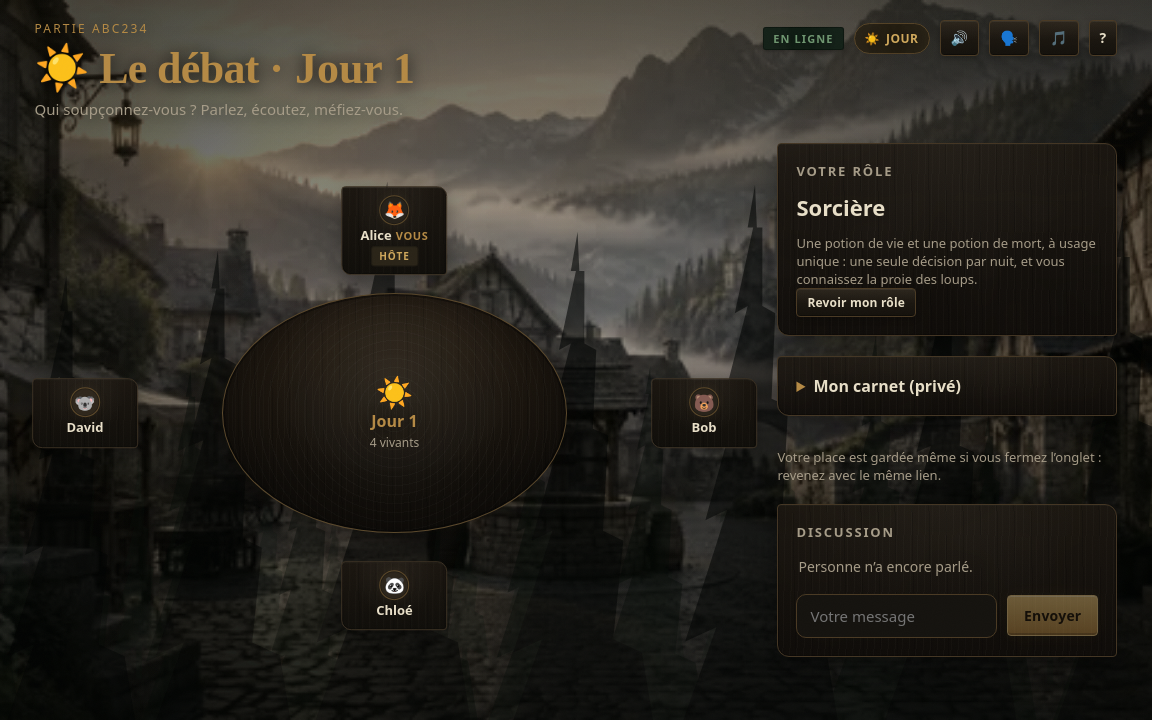
Test: Game › garde la carte de rôle à portée de main après la distribution
Step 1. Click the button "Revoir mon rôle" → {"x": 856, "y": 302}, box [796,288,916,316]
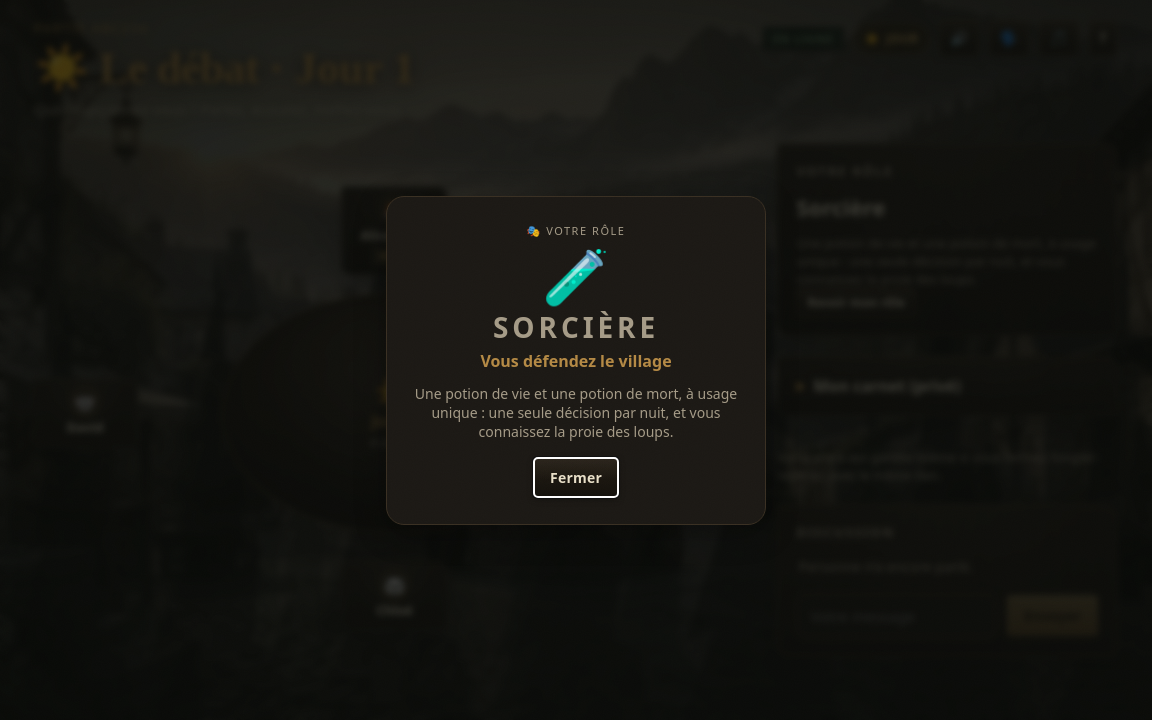
Now the text "Une potion de vie" is shown, box [415,384,737,440]
Step 2. Click the button "Fermer" → {"x": 576, "y": 477}, box [533,456,619,498]
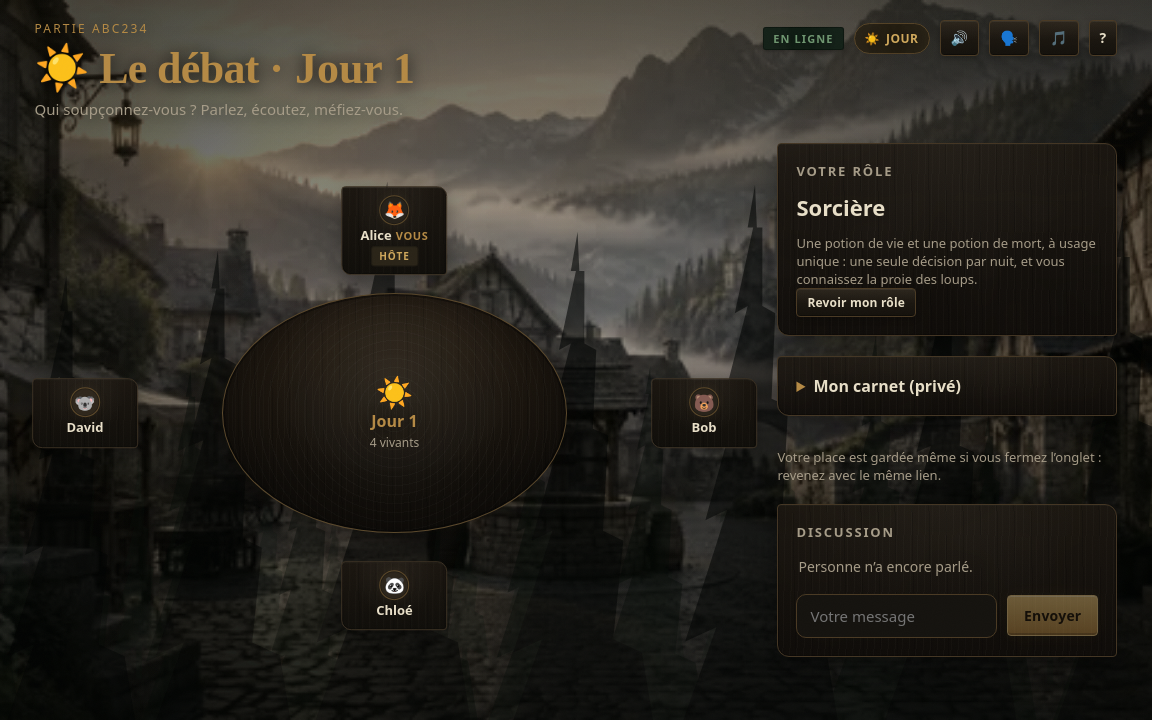
Now the dialog is gone
